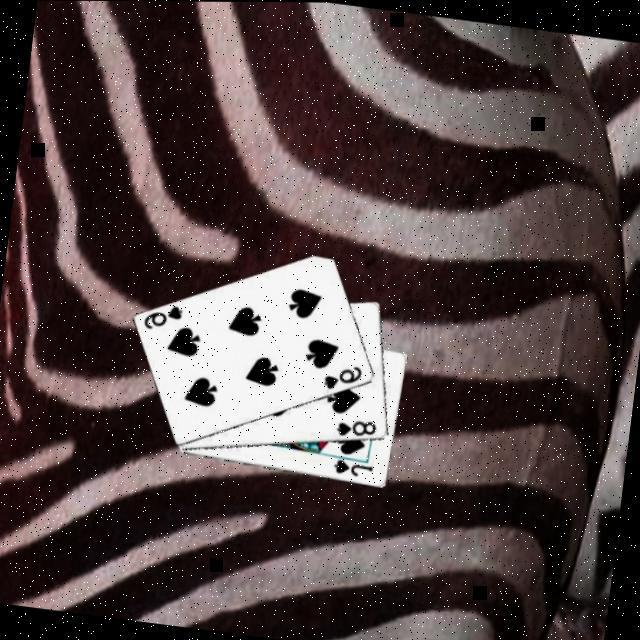6S: (139, 296, 185, 333), (320, 356, 366, 392)
8S: (332, 412, 378, 440)
JS: (329, 453, 375, 478)
